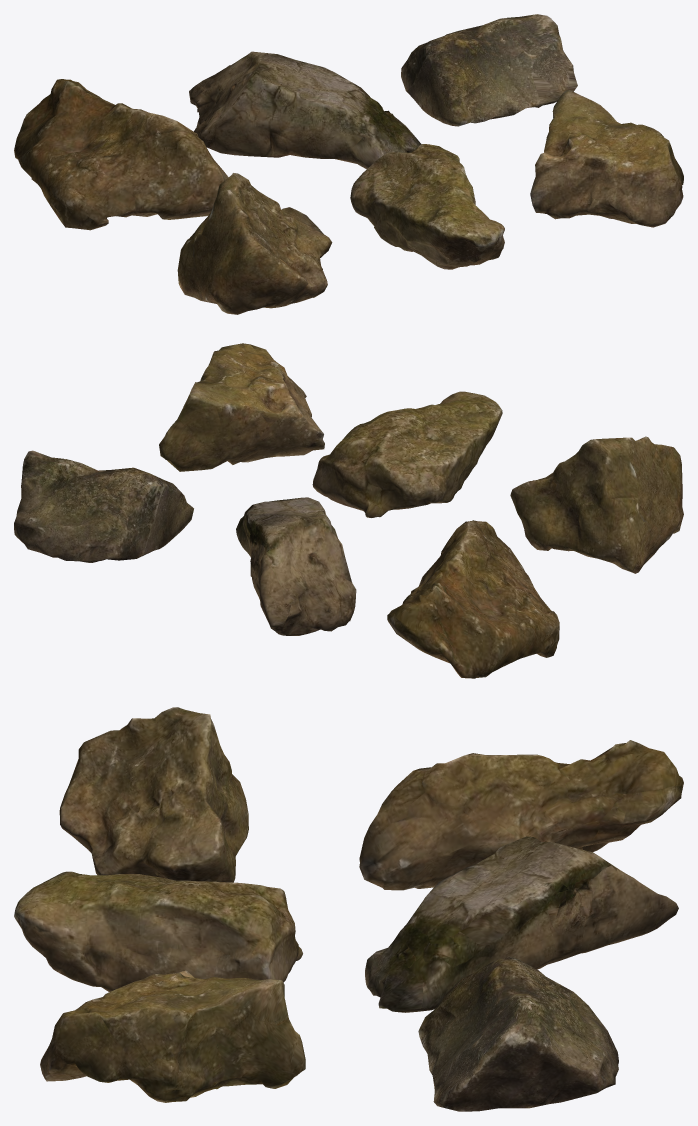
File: rock_moss_set_01.glb
3 views of the same model, one above another, from view 1: azimuth 30°, elevation 25°; view 2: azimuth 150°, elevation 25°; view 3: azimuth 270°, elevation 25° (orthographic). The views are drawn at different scales.
Parts seen in each view (by area): view 1: rock_moss_set_01_rock01, rock_moss_set_01_rock02, rock_moss_set_01_rock06, rock_moss_set_01_rock04, rock_moss_set_01_rock03, rock_moss_set_01_rock05; view 2: rock_moss_set_01_rock04, rock_moss_set_01_rock01, rock_moss_set_01_rock05, rock_moss_set_01_rock03, rock_moss_set_01_rock06, rock_moss_set_01_rock02; view 3: rock_moss_set_01_rock01, rock_moss_set_01_rock02, rock_moss_set_01_rock05, rock_moss_set_01_rock06, rock_moss_set_01_rock04, rock_moss_set_01_rock03.
Boxes of the visible parts, x1,y1,x2,y2 form: rock_moss_set_01_rock01: (14, 79, 228, 230); rock_moss_set_01_rock02: (189, 51, 421, 169); rock_moss_set_01_rock06: (530, 89, 683, 227); rock_moss_set_01_rock04: (177, 173, 332, 314); rock_moss_set_01_rock03: (401, 14, 577, 126); rock_moss_set_01_rock05: (350, 144, 504, 269); rock_moss_set_01_rock04: (510, 436, 683, 573); rock_moss_set_01_rock01: (387, 520, 559, 678); rock_moss_set_01_rock05: (312, 391, 502, 517); rock_moss_set_01_rock03: (14, 450, 193, 562); rock_moss_set_01_rock06: (159, 343, 324, 471); rock_moss_set_01_rock02: (236, 497, 356, 635); rock_moss_set_01_rock01: (359, 740, 683, 890); rock_moss_set_01_rock02: (365, 836, 678, 1012); rock_moss_set_01_rock05: (14, 871, 302, 991); rock_moss_set_01_rock06: (40, 970, 305, 1102); rock_moss_set_01_rock04: (59, 707, 248, 882); rock_moss_set_01_rock03: (418, 956, 618, 1111).
Bounding box in the file's own units: 8 × 1.76 × 6.94.
1 material, 1 textured.
